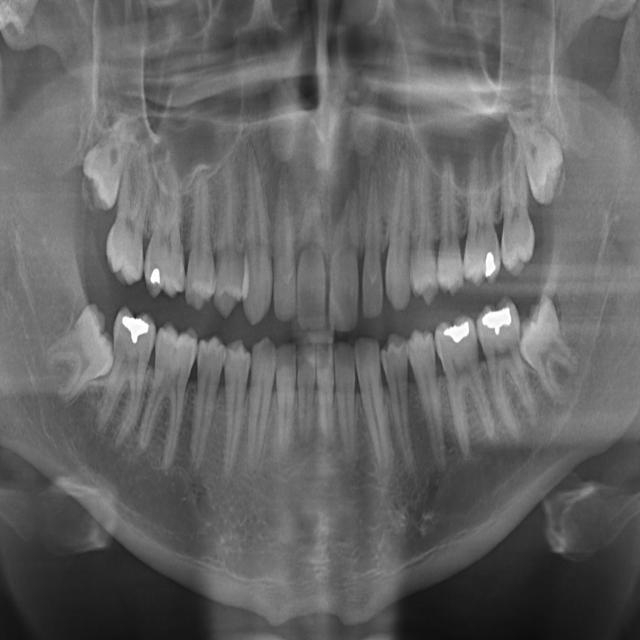AmalgamRestoration: (121, 312, 151, 345), (481, 305, 511, 335), (443, 320, 471, 342), (149, 261, 162, 288), (484, 248, 496, 277)
